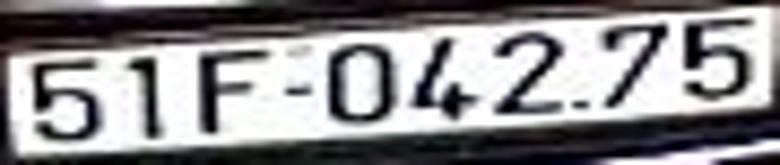-: (281, 81, 320, 102)
.: (570, 93, 593, 117)
0: (326, 39, 397, 128)
1: (126, 49, 172, 141)
2: (489, 28, 566, 121)
4: (409, 32, 477, 126)
5: (29, 55, 105, 150), (680, 14, 755, 102)
7: (601, 23, 670, 115)
F: (192, 42, 270, 139)
